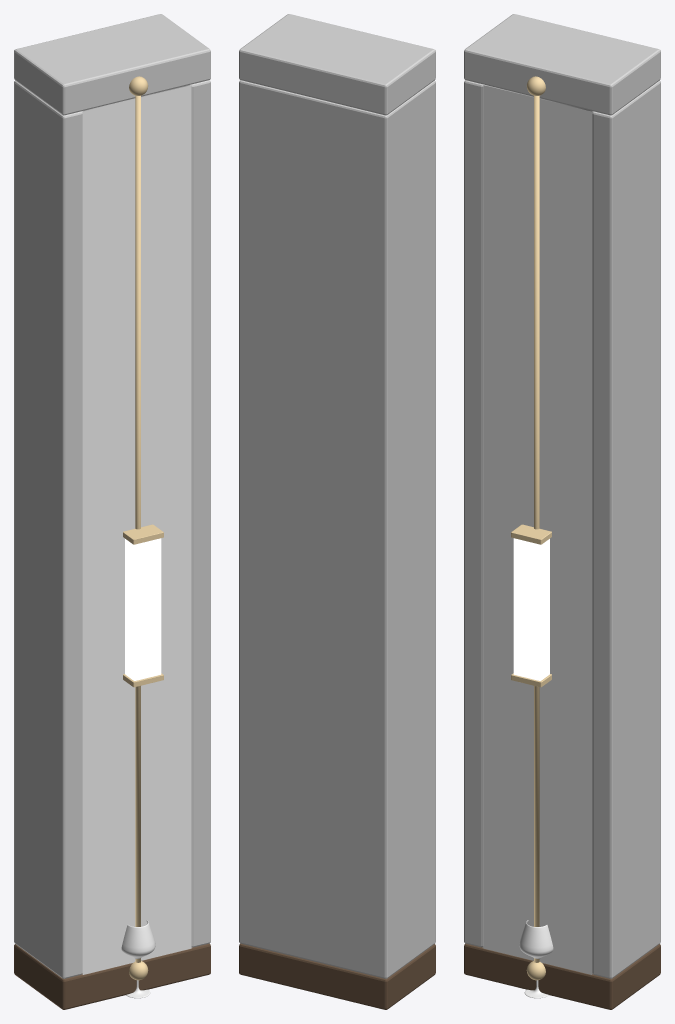
Rendered from inst.glb.
3 renders of one model, left to right at view 1: azimuth 30°, elevation 25°; view 2: azimuth 150°, elevation 25°; view 3: azimuth 330°, elevation 25°, orthographic.
Visible parts, largest first — view 1: p00003, p00000, p00002, p00001, p00007, p00004, p00010, p00009; view 2: p00000, p00002, p00001; view 3: p00003, p00000, p00002, p00001, p00007, p00004, p00010, p00009.
Boxes of the visible parts, left/top/right/bottom form: p00003: left=82, top=85, right=191, bottom=974; p00000: left=14, top=80, right=210, bottom=978; p00002: left=14, top=14, right=210, bottom=115; p00001: left=14, top=943, right=210, bottom=1009; p00007: left=125, top=538, right=161, bottom=680; p00004: left=135, top=96, right=140, bottom=962; p00010: left=121, top=920, right=155, bottom=998; p00009: left=123, top=524, right=163, bottom=544; p00000: left=239, top=80, right=435, bottom=978; p00002: left=239, top=14, right=435, bottom=115; p00001: left=239, top=943, right=435, bottom=1009; p00003: left=483, top=85, right=592, bottom=974; p00000: left=464, top=80, right=660, bottom=978; p00002: left=464, top=14, right=660, bottom=115; p00001: left=464, top=943, right=660, bottom=1009; p00007: left=513, top=538, right=549, bottom=680; p00004: left=534, top=96, right=539, bottom=962; p00010: left=519, top=920, right=553, bottom=998; p00009: left=511, top=524, right=551, bottom=544.
Size of the model in its own units: 0.6 by 3.57 by 0.43.
